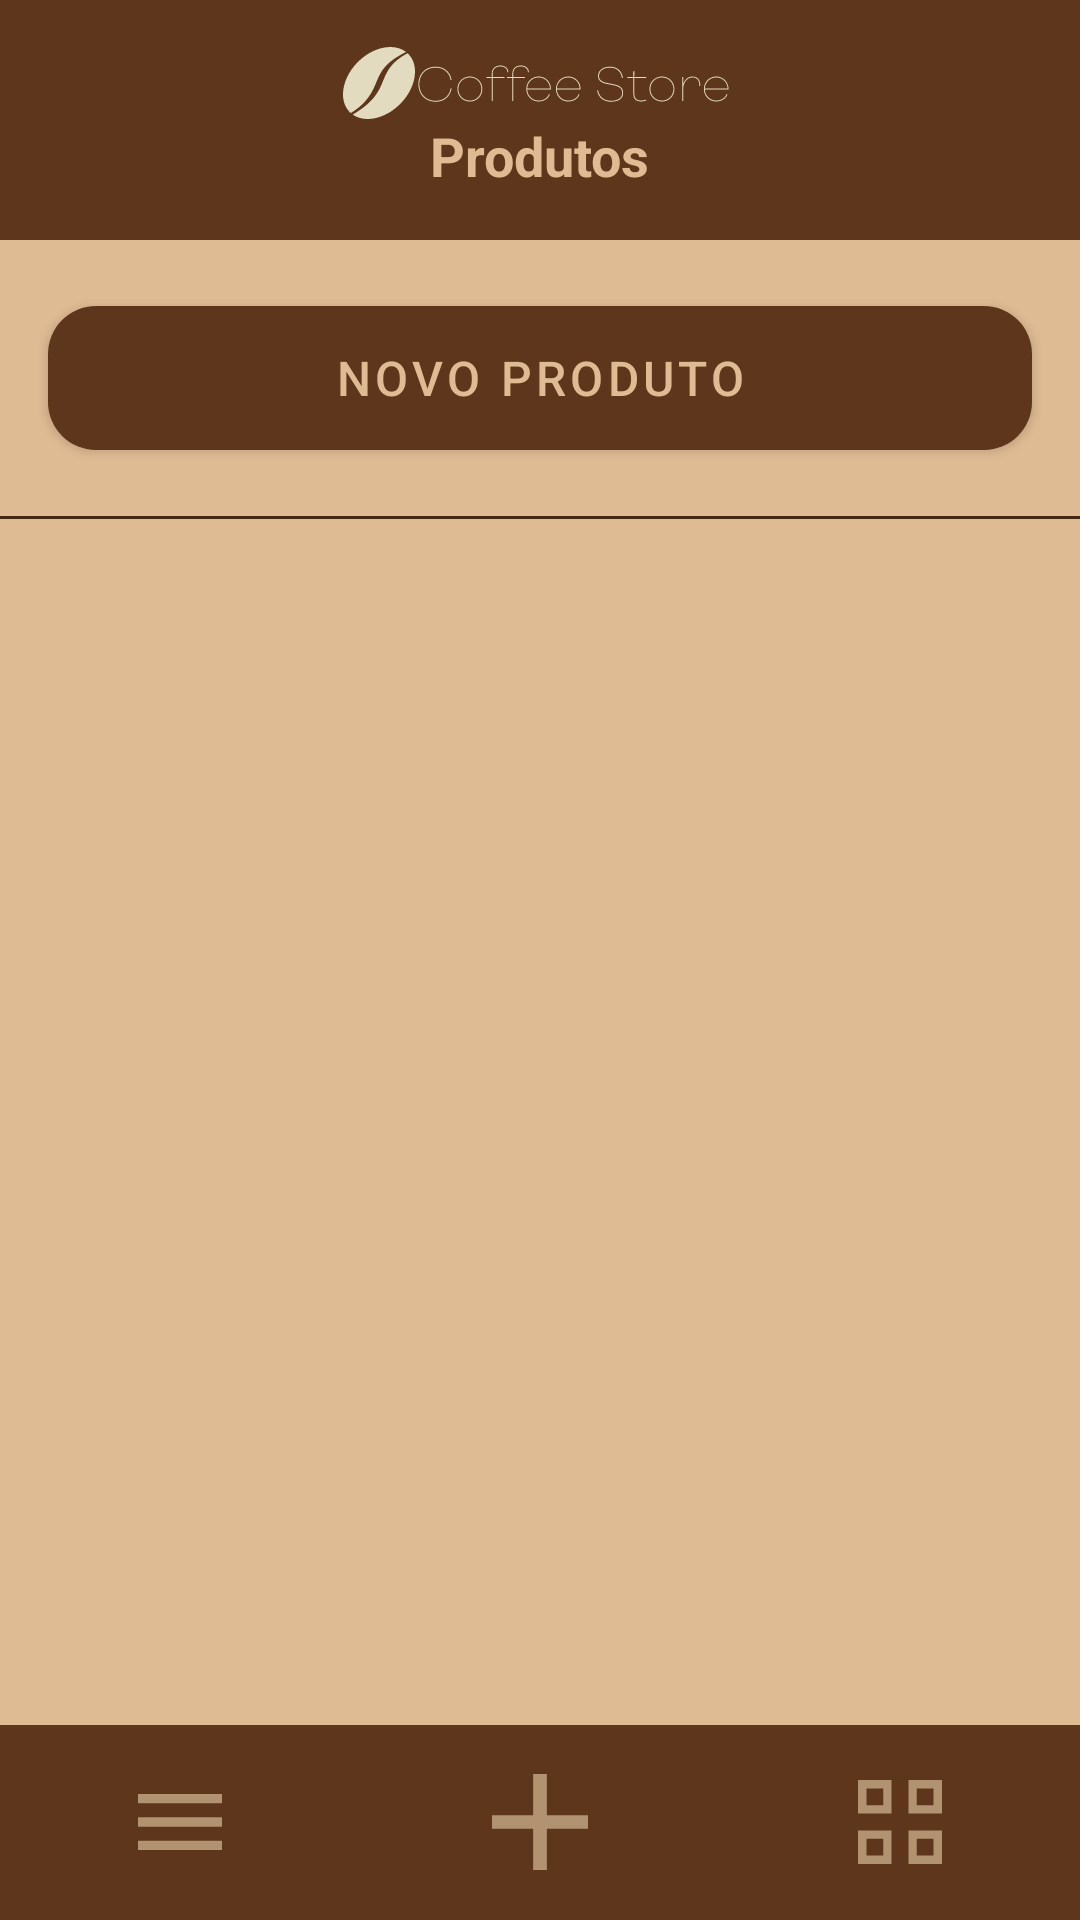

Screen size 1080 x 1920. Icon name, then its box in pixels as {"x1": x1, "y1": y1, "x2": x2, "y2": y2}:
novo: {"x1": 492, "y1": 1774, "x2": 588, "y2": 1870}
pedidos: {"x1": 138, "y1": 1794, "x2": 222, "y2": 1850}
produtos: {"x1": 858, "y1": 1780, "x2": 942, "y2": 1864}
